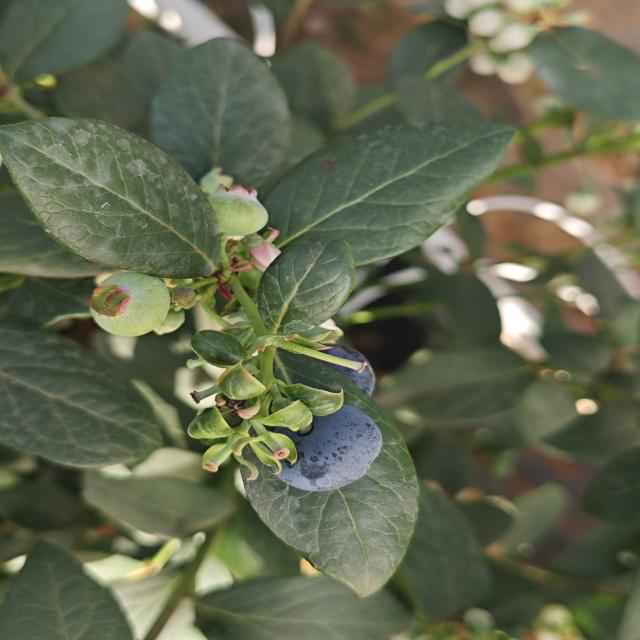ripe: (271, 401, 385, 496), (296, 325, 381, 400)
